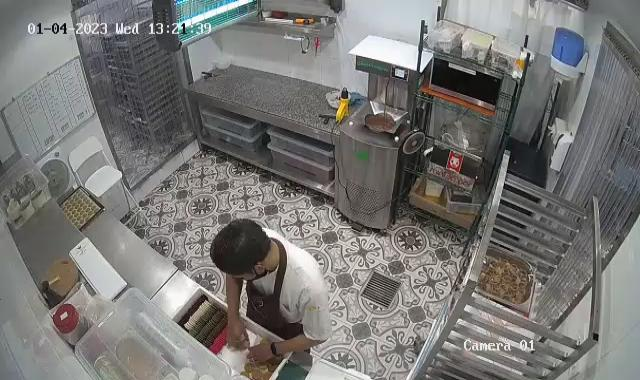no_hairnet: (210, 218, 274, 276)
